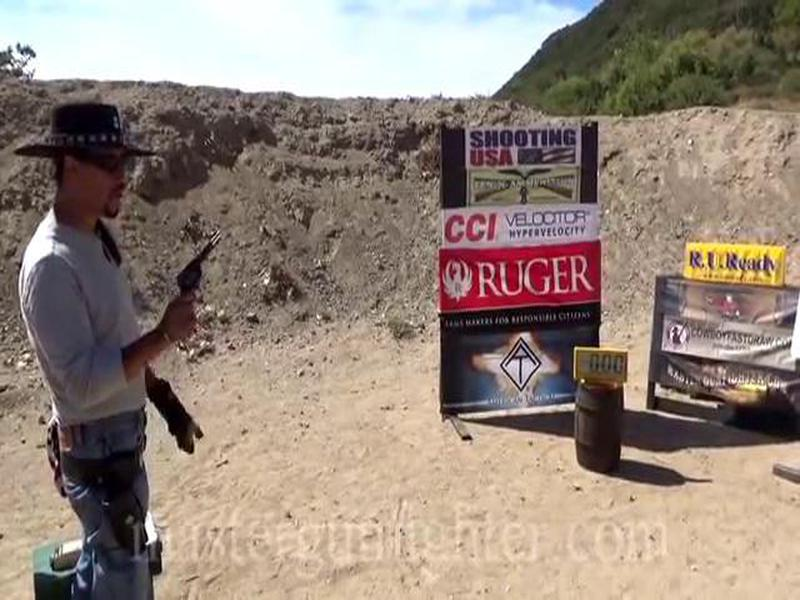Revolver: (152, 228, 235, 336)
